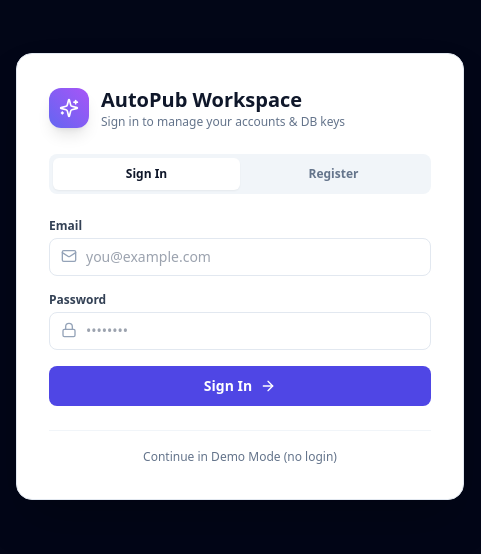
Test: Login page › switches to Register mode and shows Display Name field
This screenshot has width=481, height=554.
Click the button "Register" at [334, 174], box [240, 158, 427, 190]
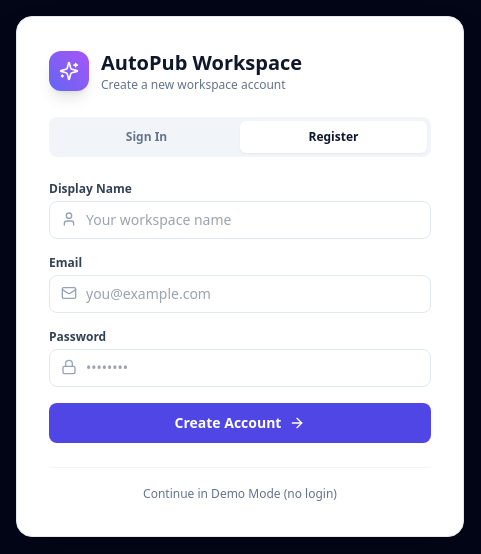
Now the field with placeholder "Your workspace name" is shown, box [49, 200, 431, 238]
